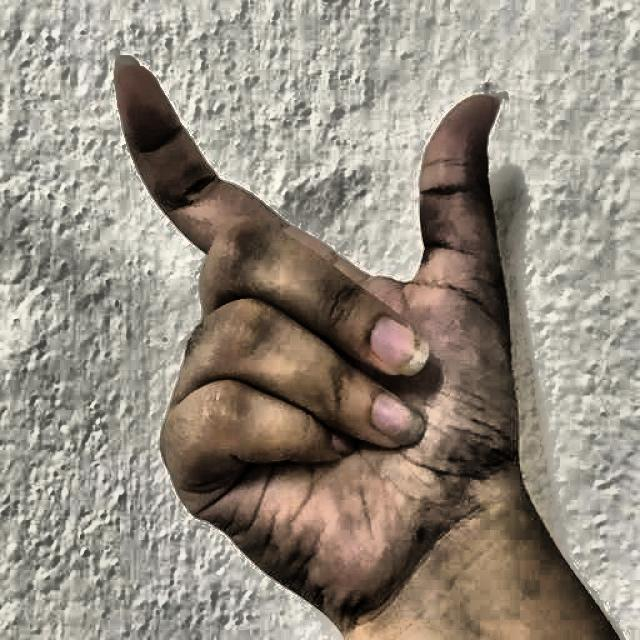ChandraBindu: (90, 29, 546, 618)
